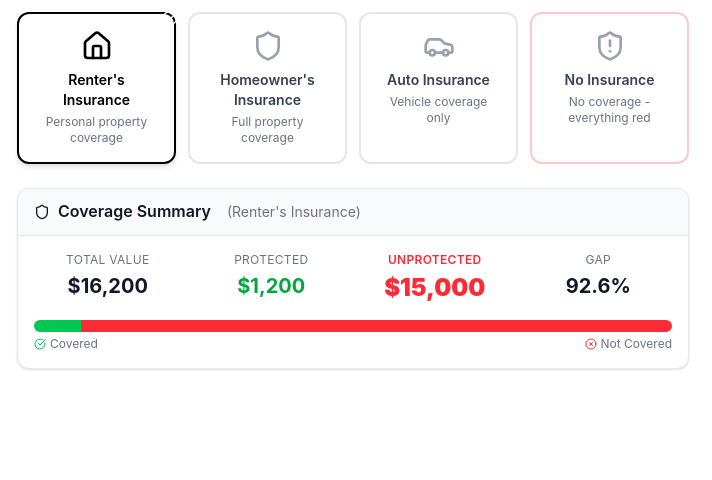
PolicySelector › Coverage Restoration › restores original colors when switching back from No Insurance
# Switch to No Insurance
Click the button with aria-label "Select No Insurance" at (610,88), box [530,12,689,164]
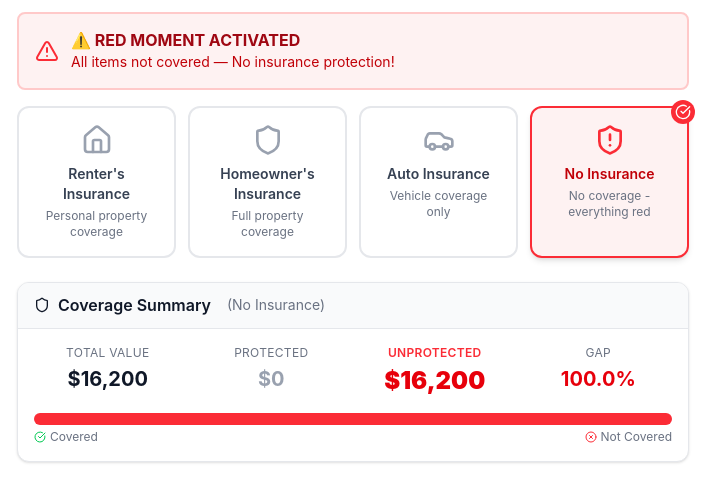
Expected: the element with test id "red-moment-indicator" is shown, [17,12,689,90]
# Switch back to renters
Click the button with aria-label "Select Renter's Insurance" at (96,182), box [17,106,176,258]
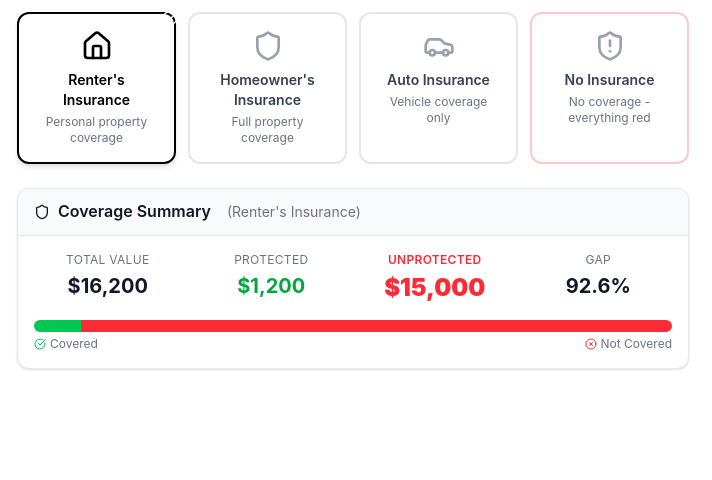
Expected: the element with test id "red-moment-indicator" is gone
Expected: the text with test id "coverage-gap" no longer shows "100.0%"
